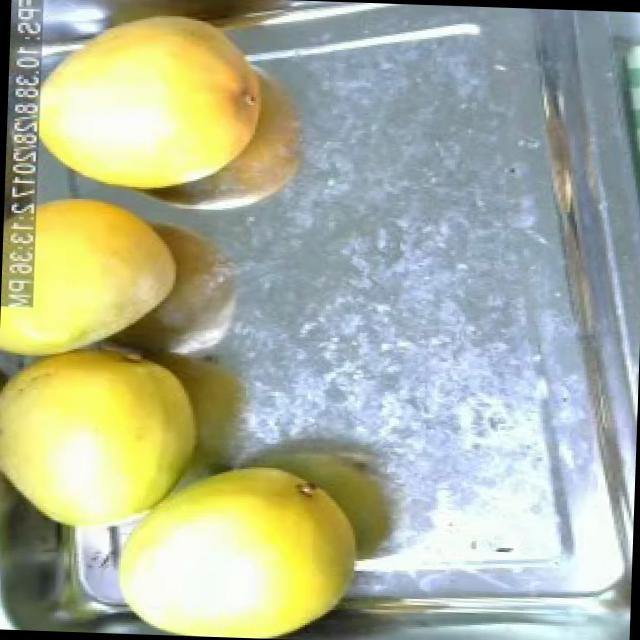fruit: (0, 310, 228, 564), (88, 442, 377, 640), (36, 0, 283, 208), (15, 180, 196, 378)
